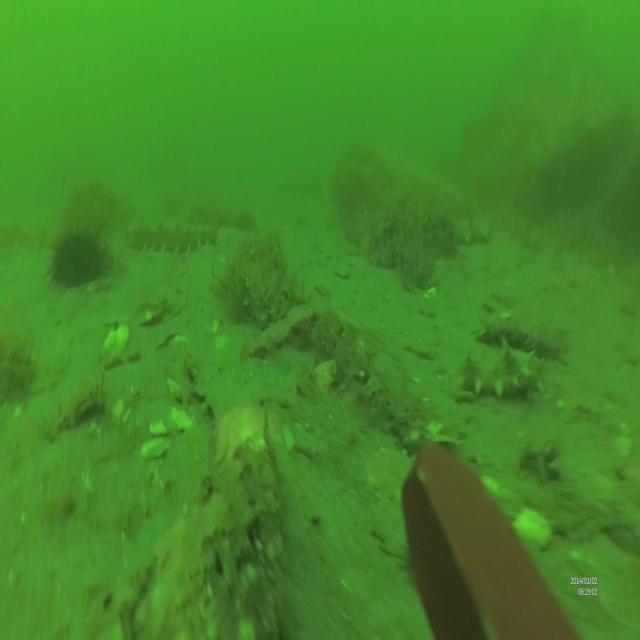echinus: (48, 226, 113, 290)
holothurian: (472, 314, 574, 362), (463, 342, 544, 401), (122, 220, 218, 253), (426, 217, 492, 245)
